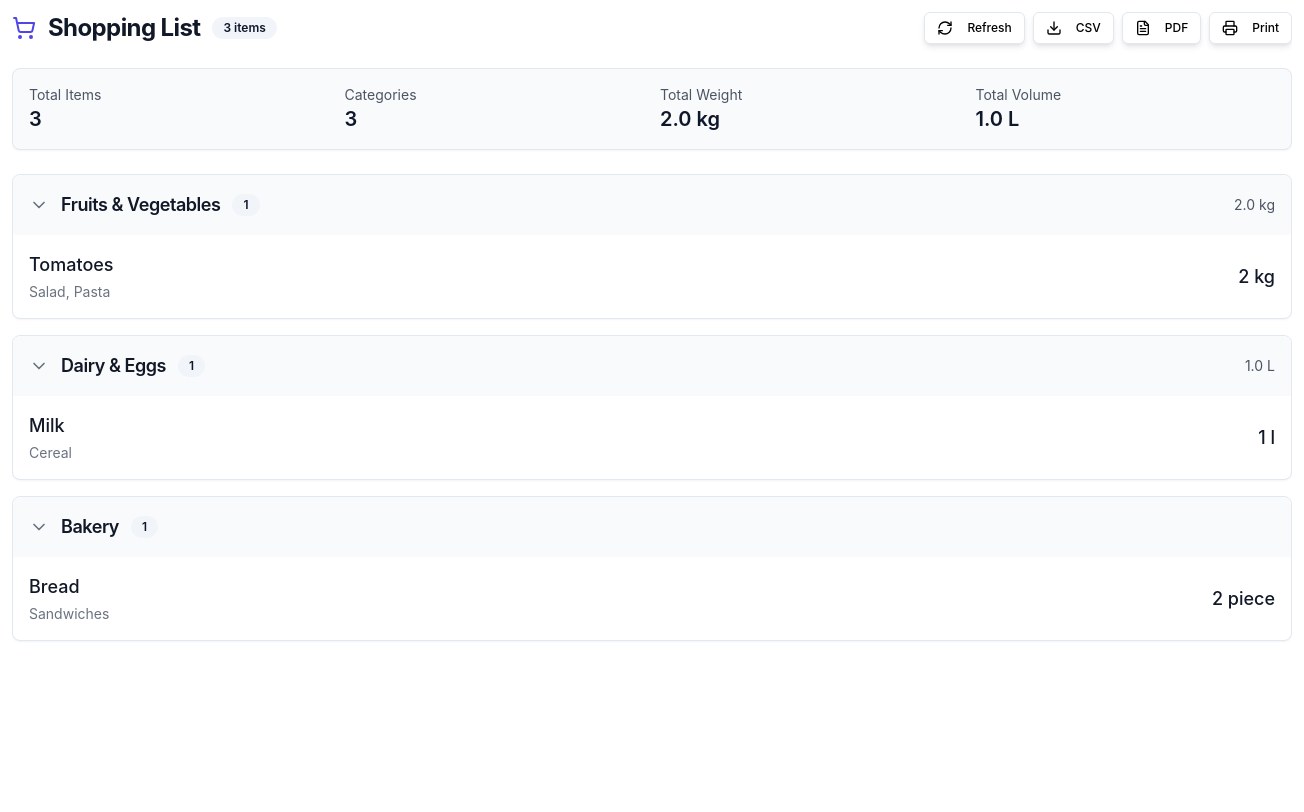
Test: ShoppingListView › can collapse and expand categories
The image size is (1304, 812).
Expected: the text "Fruits & Vegetables" is shown, [61,194,220,215]
Expected: the text "Tomatoes" is shown, [29,254,114,275]
Click to collapse
Step 1. Click the text "Fruits & Vegetables" → (144, 205), box [29,191,260,219]
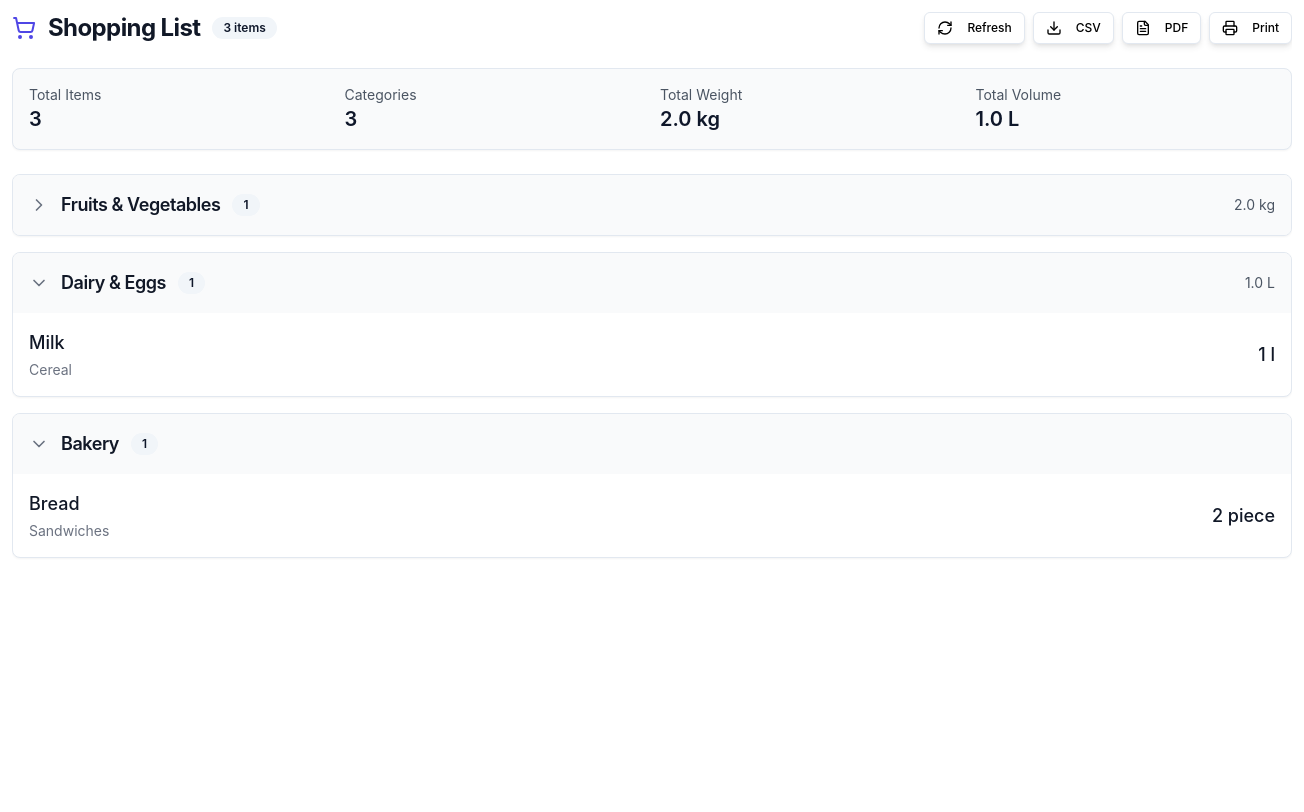
Expected: the text "Tomatoes" is gone
Click to expand
Step 2. Click the text "Fruits & Vegetables" → (144, 205), box [29,191,260,219]
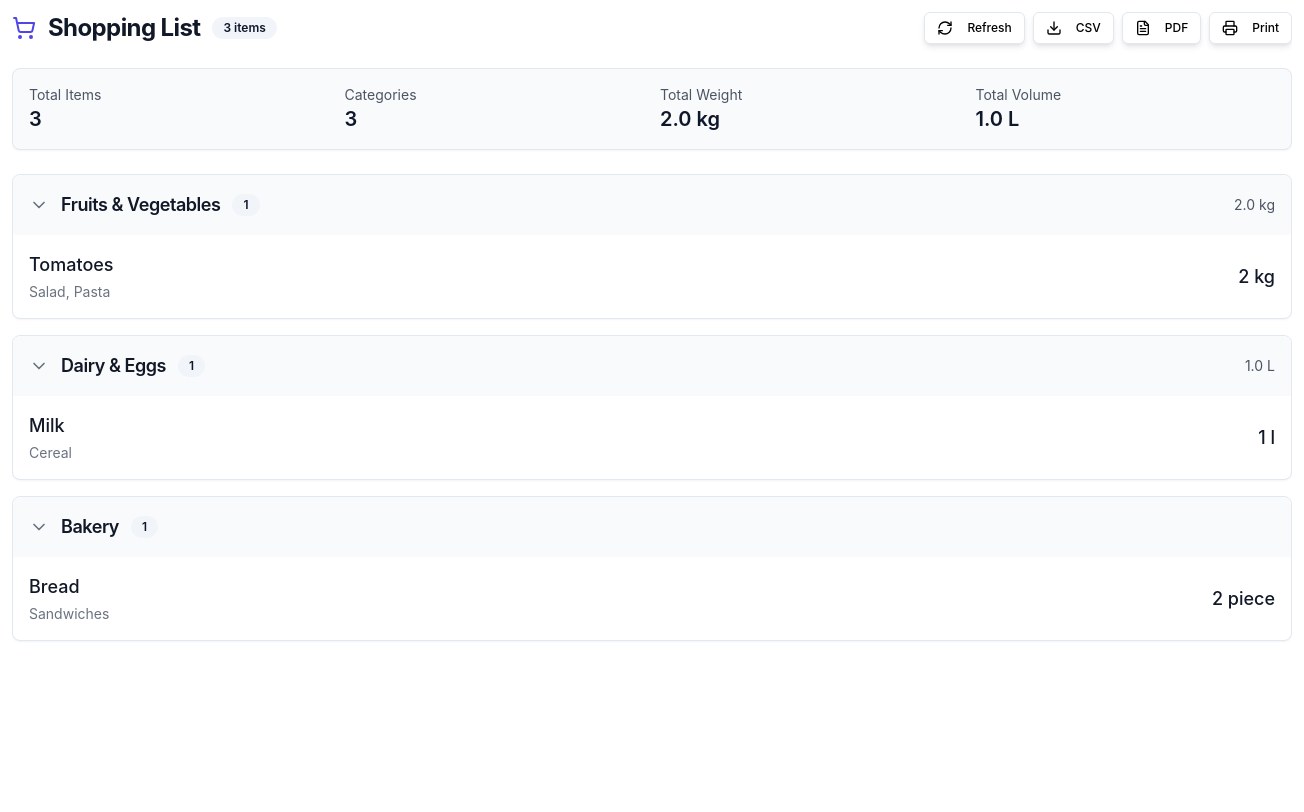
Expected: the text "Tomatoes" is shown, [29,254,114,275]
